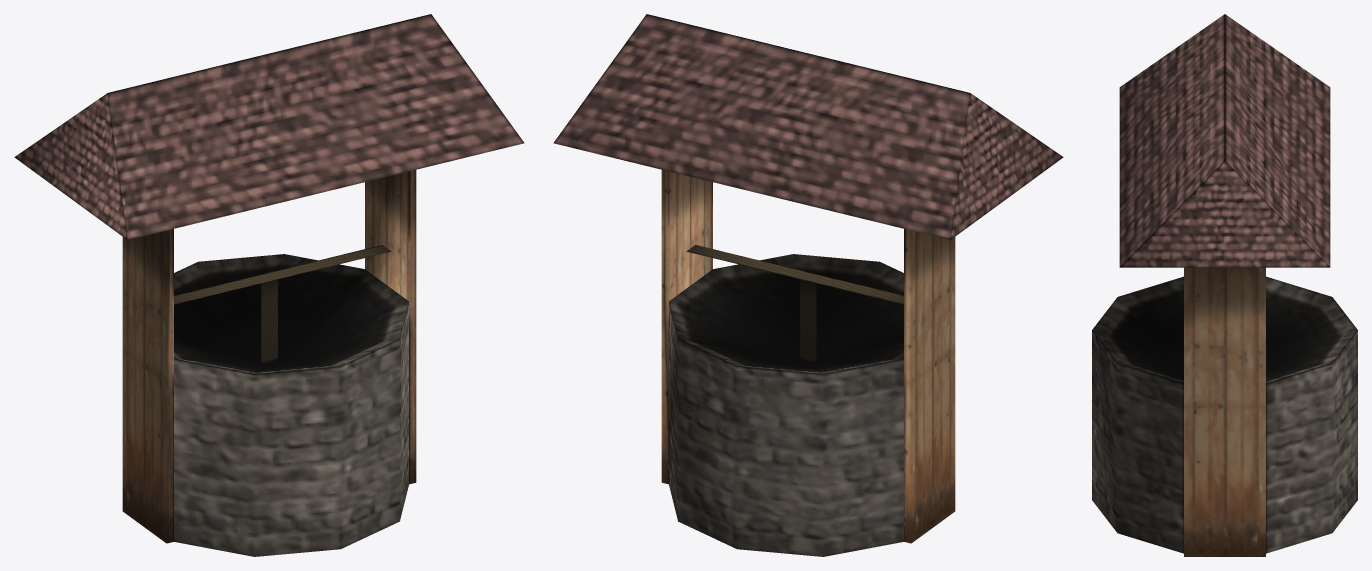
Rendered from Well_atlas.fbx.
3 views of the same model, side by side, from view 1: azimuth 30°, elevation 25°; view 2: azimuth 150°, elevation 25°; view 3: azimuth 270°, elevation 25° (orthographic). The views are drawn at different scales.
Parts seen in each view (by area): view 1: polySurface4; view 2: polySurface4; view 3: polySurface4.
Part boxes in pixels (<box>): polySurface4: <box>14,14,524,556</box>; polySurface4: <box>553,14,1063,556</box>; polySurface4: <box>1092,14,1357,556</box>.
Bounding box in the file's own units: 2.42 × 2.58 × 1.5.
